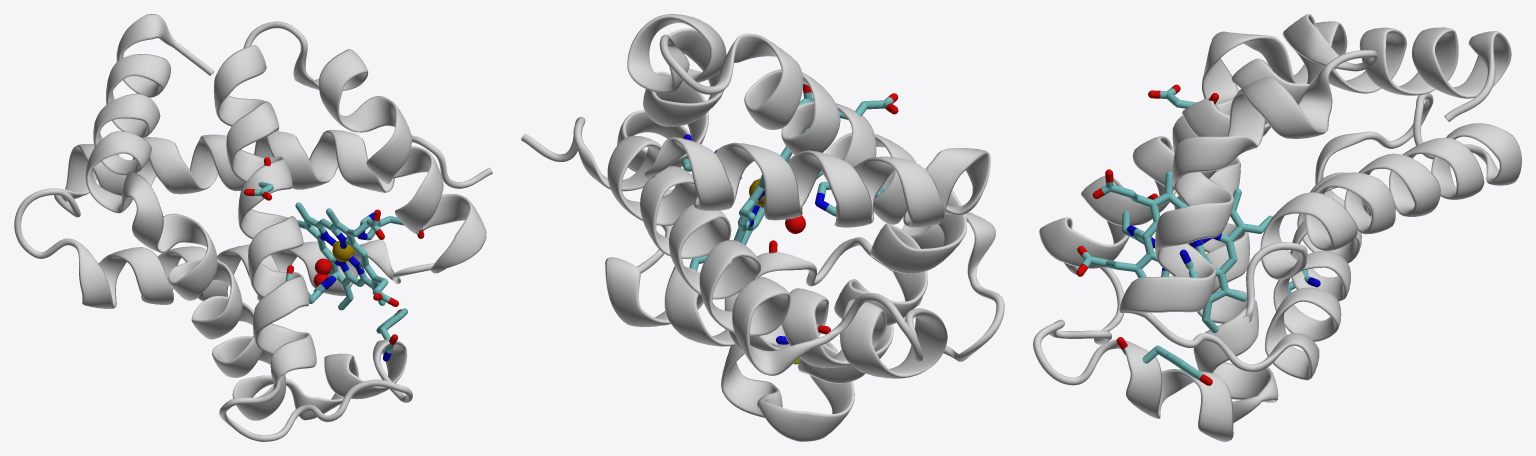
Rendered from frame23.gltf.
3 renders of one model, left to right at view 1: azimuth 30°, elevation 25°; view 2: azimuth 150°, elevation 25°; view 3: azimuth 270°, elevation 25°, orthographic. The views are drawn at different scales.
Parts seen in each view (by area): view 1: vmd_mol23_rep3, vmd_mol23_rep2, vmd_mol23_rep1; view 2: vmd_mol23_rep3, vmd_mol23_rep1, vmd_mol23_rep2; view 3: vmd_mol23_rep3, vmd_mol23_rep2, vmd_mol23_rep1.
Boxes of the visible parts, x1,y1,x2,y2 form: vmd_mol23_rep3: (14,14,492,441); vmd_mol23_rep2: (295,202,398,310); vmd_mol23_rep1: (200,157,424,361); vmd_mol23_rep3: (521,14,1004,441); vmd_mol23_rep1: (681,93,898,364); vmd_mol23_rep2: (734,84,822,244); vmd_mol23_rep3: (1033,14,1521,441); vmd_mol23_rep2: (1076,169,1272,332); vmd_mol23_rep1: (1116,84,1320,385).
Size of the model in its own units: 1.41 by 1.18 by 1.28.
